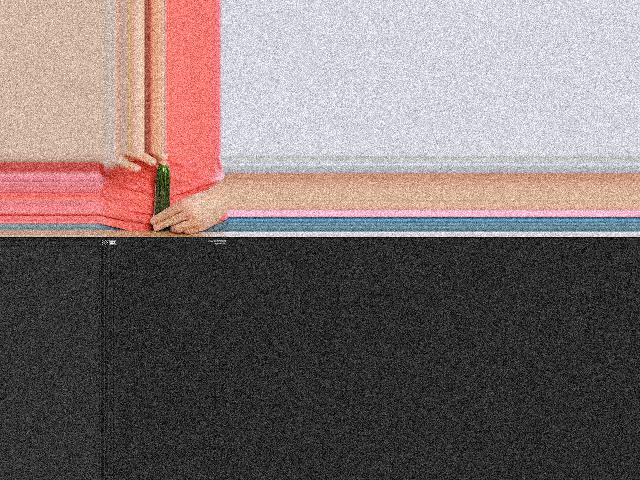cucumber: (154, 164, 171, 215)
